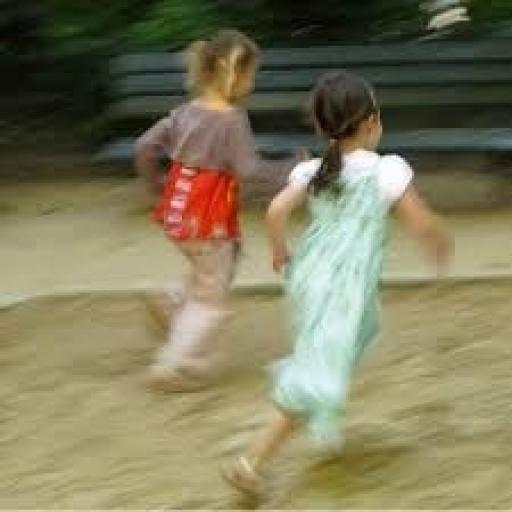running: (218, 66, 460, 508), (127, 25, 314, 398)
